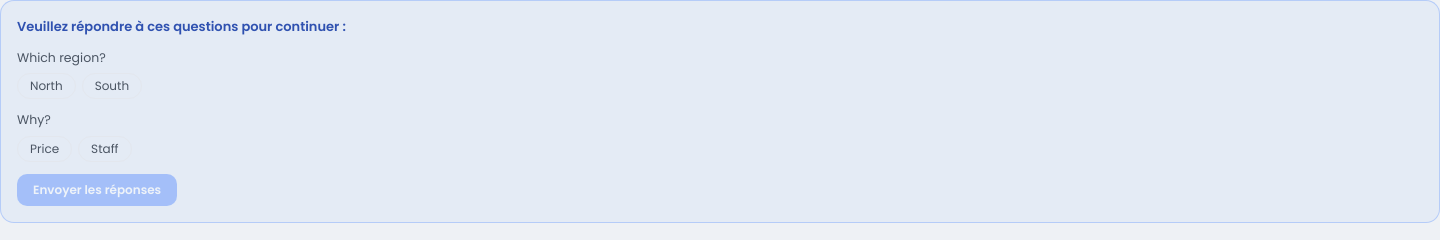
Scenario: QuestionCard › submits formatted answers and shows confirmation
What coordinates should you click on to do the following:
click the button "North"
I would click on:
 (46, 86)
Its box is [17, 73, 76, 99].
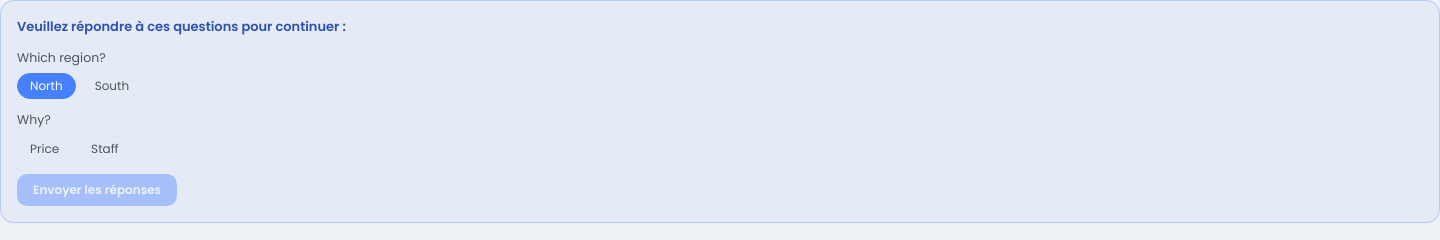
What coordinates should you click on to do the following:
click the button "Price"
I would click on:
 (45, 149)
Its box is [17, 136, 72, 162].
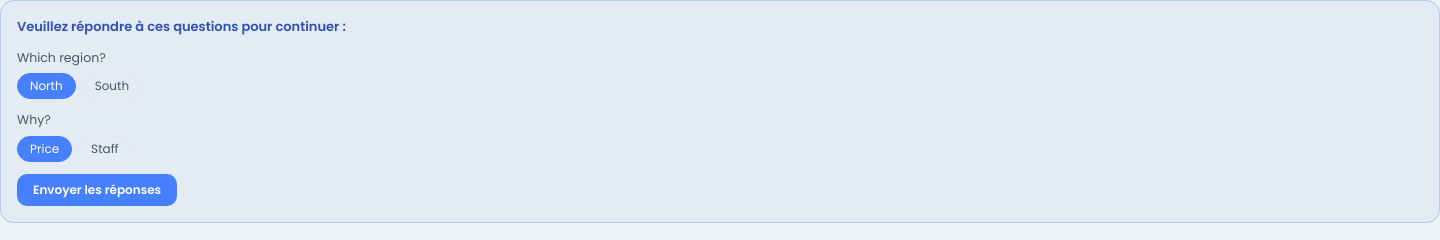
What coordinates should you click on to do the following:
click the button "Envoyer les réponses"
I would click on:
 (97, 190)
Its box is [17, 174, 177, 206].
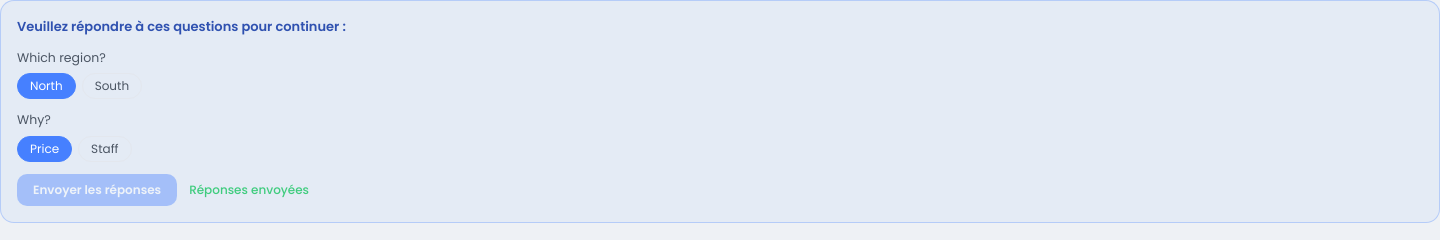
Expected: the text "Réponses envoyées" is shown, [189, 182, 309, 198]
